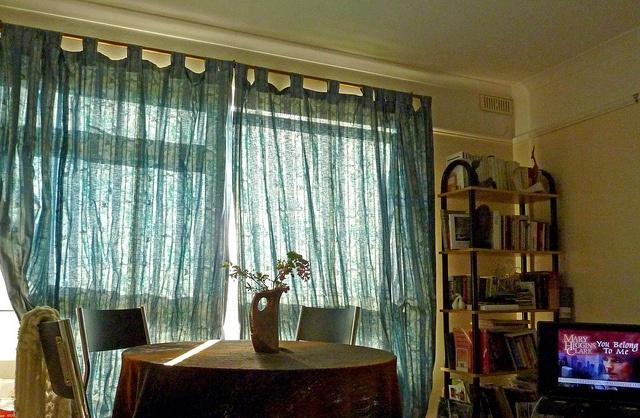AIO PC-Monitor-TV: (535, 319, 639, 408)
